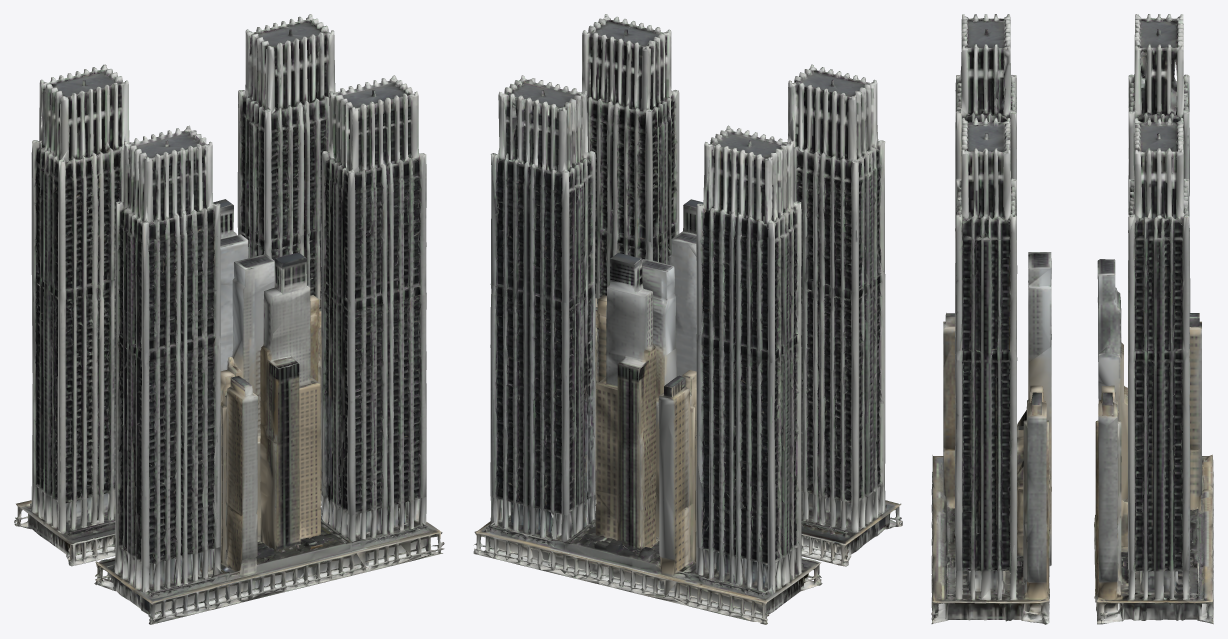
File: Meshy_AI_Create_a_detailed_3D__0501205932_texture.fbx
3 renders of one model, left to right at view 1: azimuth 30°, elevation 25°; view 2: azimuth 150°, elevation 25°; view 3: azimuth 270°, elevation 25°, orthographic. The views are drawn at different scales.
Visible parts, largest first — view 1: Mesh_0; view 2: Mesh_0; view 3: Mesh_0.
Boxes of the visible parts, box(x1,y1,x2,y2) form: Mesh_0: box(14, 14, 444, 624); Mesh_0: box(473, 14, 902, 624); Mesh_0: box(931, 14, 1213, 624).
Size of the model in its own units: 130 by 191 by 104.
Materials: 1 (1 with a texture image).
